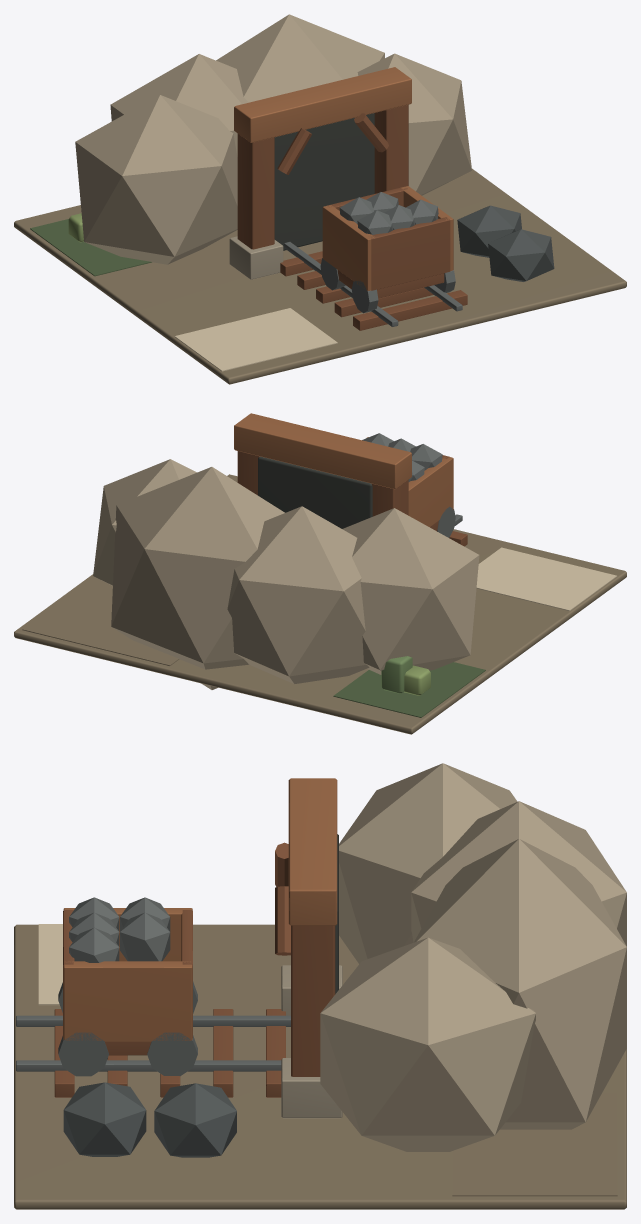
File: mine.glb
The picture shows the model from 3 angles, top to bottom: view 1: azimuth 30°, elevation 25°; view 2: azimuth 150°, elevation 25°; view 3: azimuth 270°, elevation 25°; orthographic projection. The views are drawn at different scales.
Visible parts, largest first — view 1: mine; view 2: mine; view 3: mine.
Part boxes in pixels (x1,y1,x2,y2): mine: (14, 14, 626, 384); mine: (14, 413, 626, 734); mine: (14, 763, 626, 1209).
Bounding box in the file's own units: 3.1 × 1.66 × 2.9.
